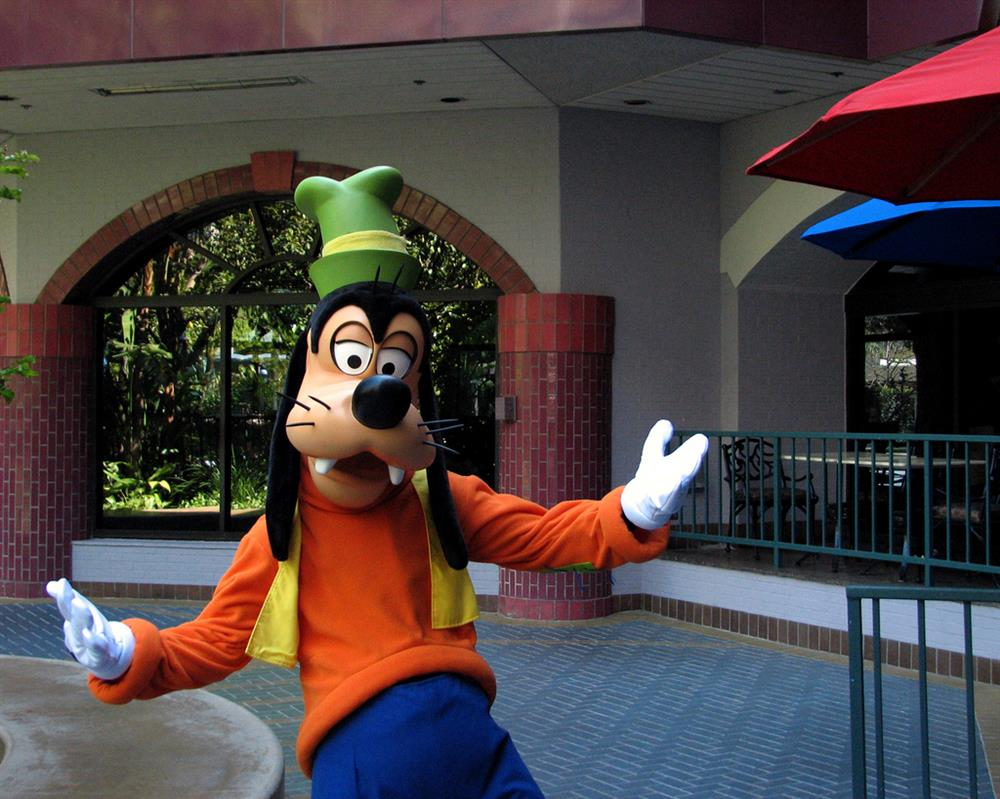Goofy: (252, 267, 460, 489)
